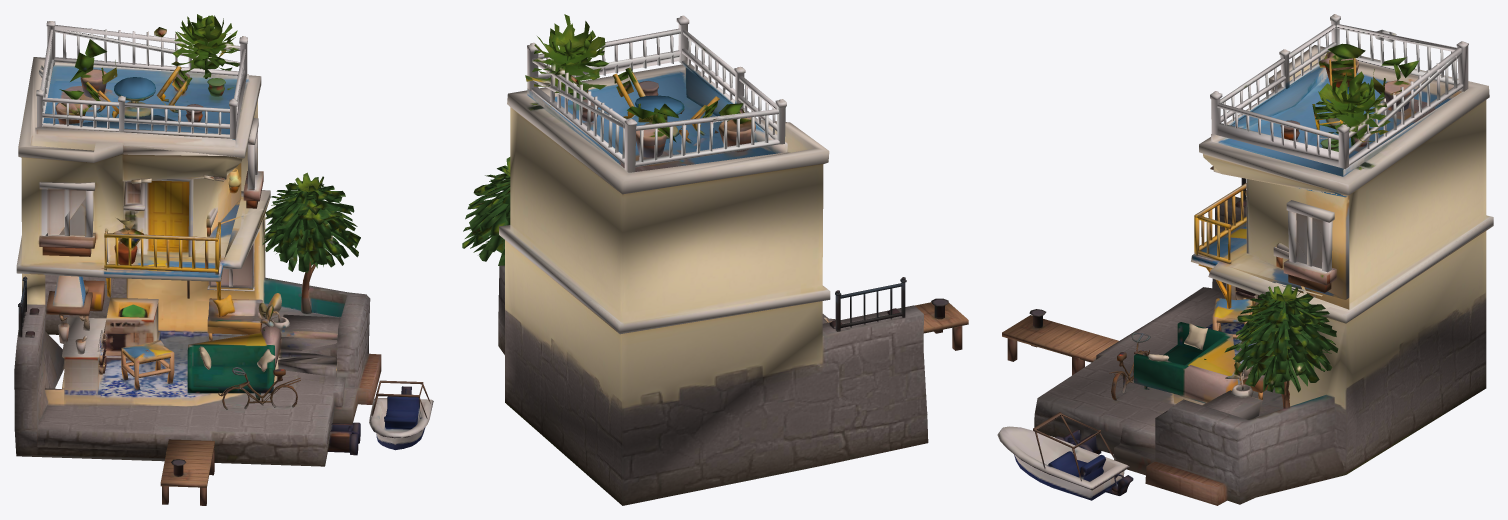
File: tier2-lv8.glb
3 views of the same model, side by side, from view 1: azimuth 30°, elevation 25°; view 2: azimuth 150°, elevation 25°; view 3: azimuth 270°, elevation 25° (orthographic). The views are drawn at different scales.
Visible parts, largest first — view 1: tripo_node_77fa5b1e-ea8b-474a-bc61-7d2833b74c2e; view 2: tripo_node_77fa5b1e-ea8b-474a-bc61-7d2833b74c2e; view 3: tripo_node_77fa5b1e-ea8b-474a-bc61-7d2833b74c2e.
Boxes of the visible parts, x1=… form: tripo_node_77fa5b1e-ea8b-474a-bc61-7d2833b74c2e: x1=14, y1=14, x2=433, y2=505; tripo_node_77fa5b1e-ea8b-474a-bc61-7d2833b74c2e: x1=462, y1=14, x2=968, y2=505; tripo_node_77fa5b1e-ea8b-474a-bc61-7d2833b74c2e: x1=997, y1=14, x2=1493, y2=505.
Size of the model in its own units: 1.02 by 0.916 by 1.1.
Materials: 1 (1 with a texture image).
